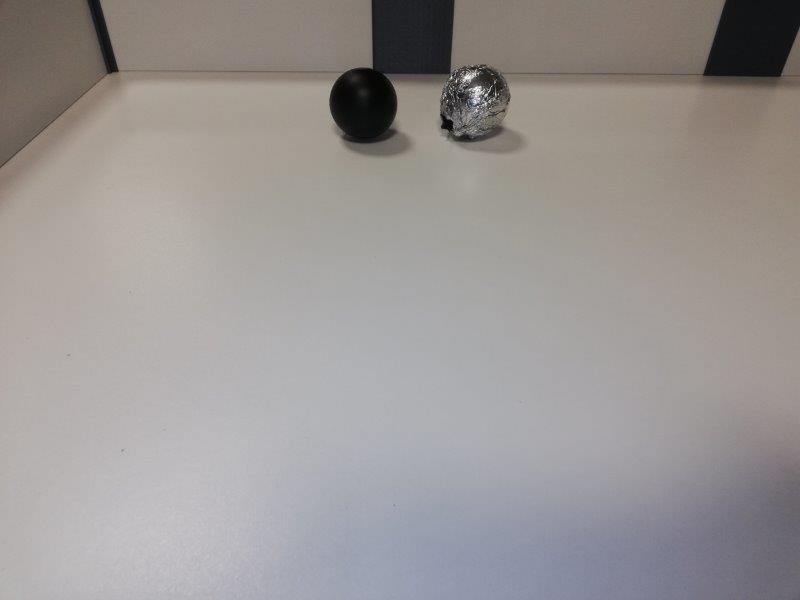bianca: (439, 63, 512, 142)
nera: (328, 68, 399, 140)
